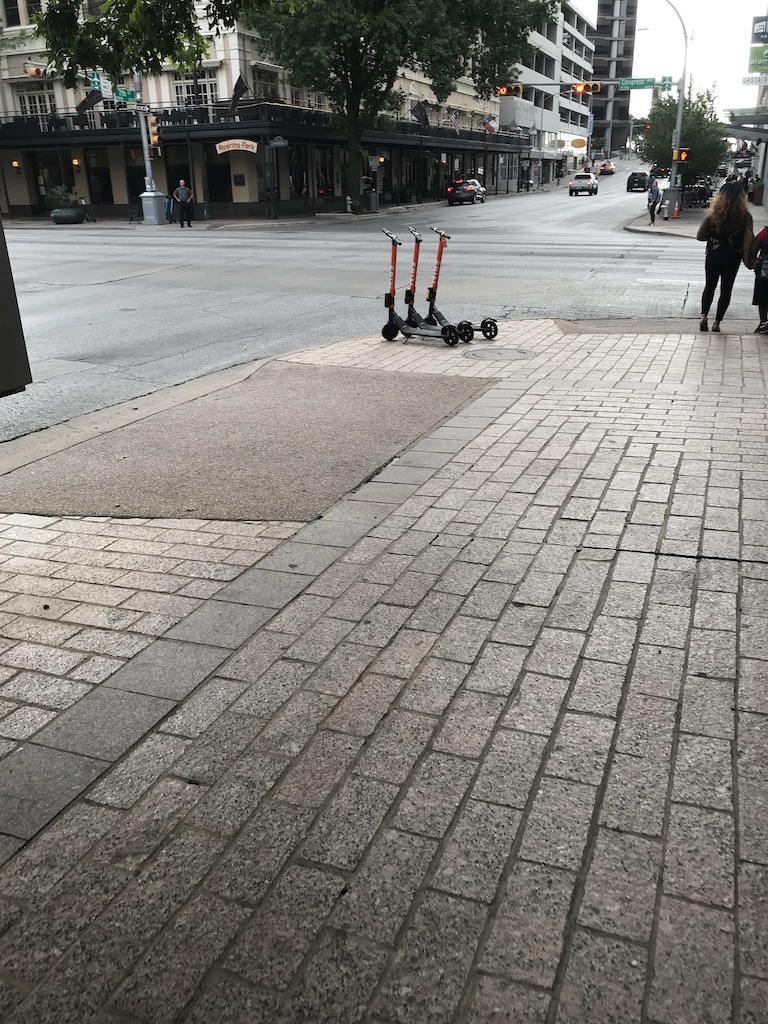scooter: (381, 229, 458, 346), (424, 226, 498, 338), (405, 227, 475, 342)
